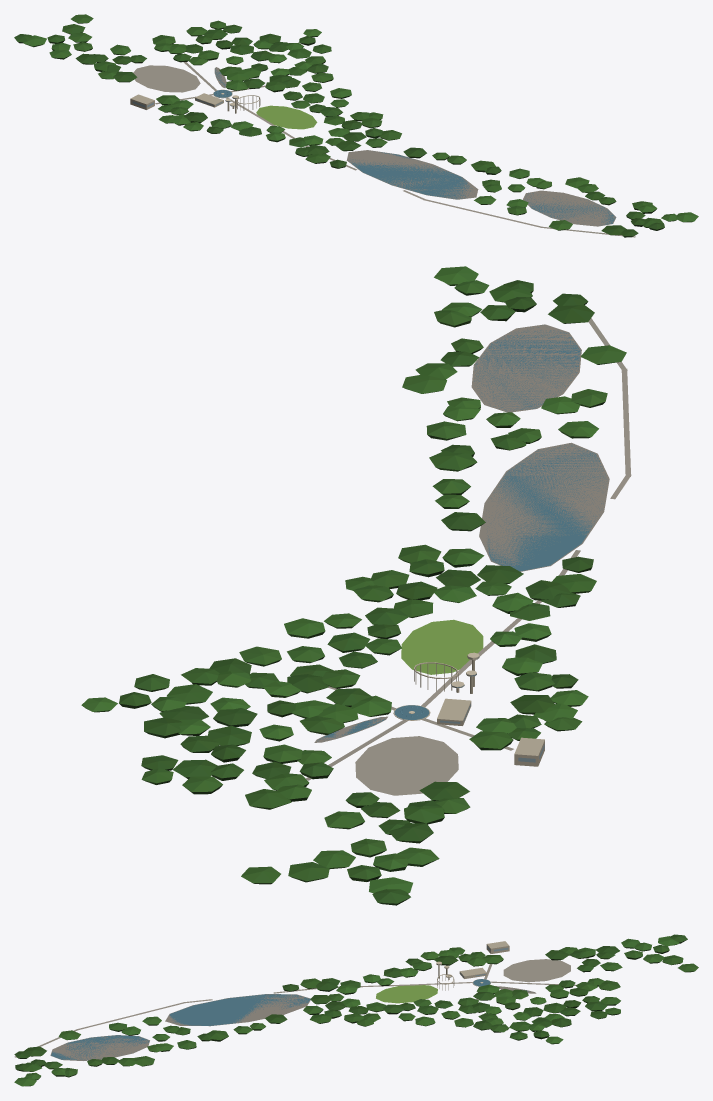
3 renders of one model, top to bottom at view 1: azimuth 30°, elevation 25°; view 2: azimuth 150°, elevation 25°; view 3: azimuth 270°, elevation 25°, orthographic. The views are drawn at different scales.
Parts seen in each view (by area): view 1: flushing-meadows-lod1; view 2: flushing-meadows-lod1; view 3: flushing-meadows-lod1.
Boxes of the visible parts, box(x1,y1,x2,y2) form: flushing-meadows-lod1: box(14, 14, 698, 237); flushing-meadows-lod1: box(81, 266, 631, 905); flushing-meadows-lod1: box(14, 934, 698, 1086).
Size of the model in its own units: 2601 by 124 by 4962.
